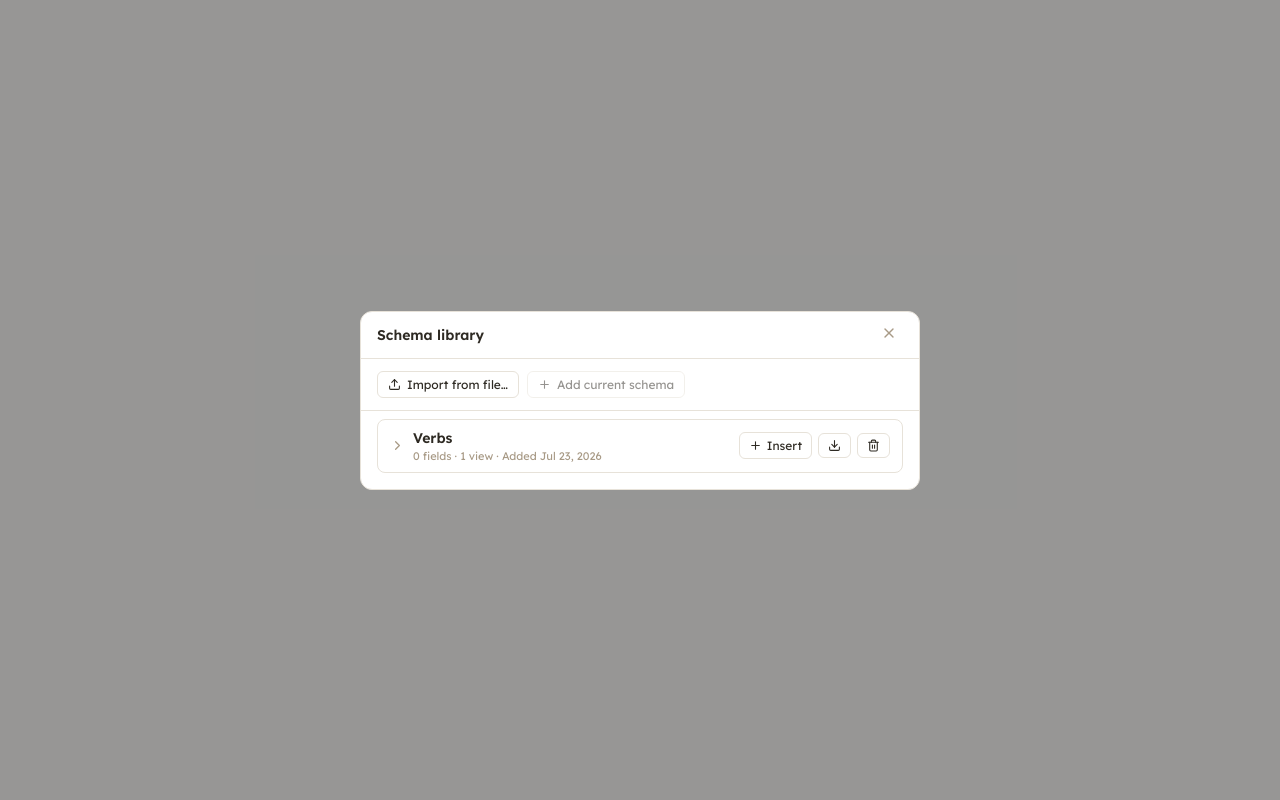
Test: SchemaLibraryModal › editing the entry name commits to the store
Click the button with aria-label "toggle details". click: (559, 446)
box: [390,428,729,462]
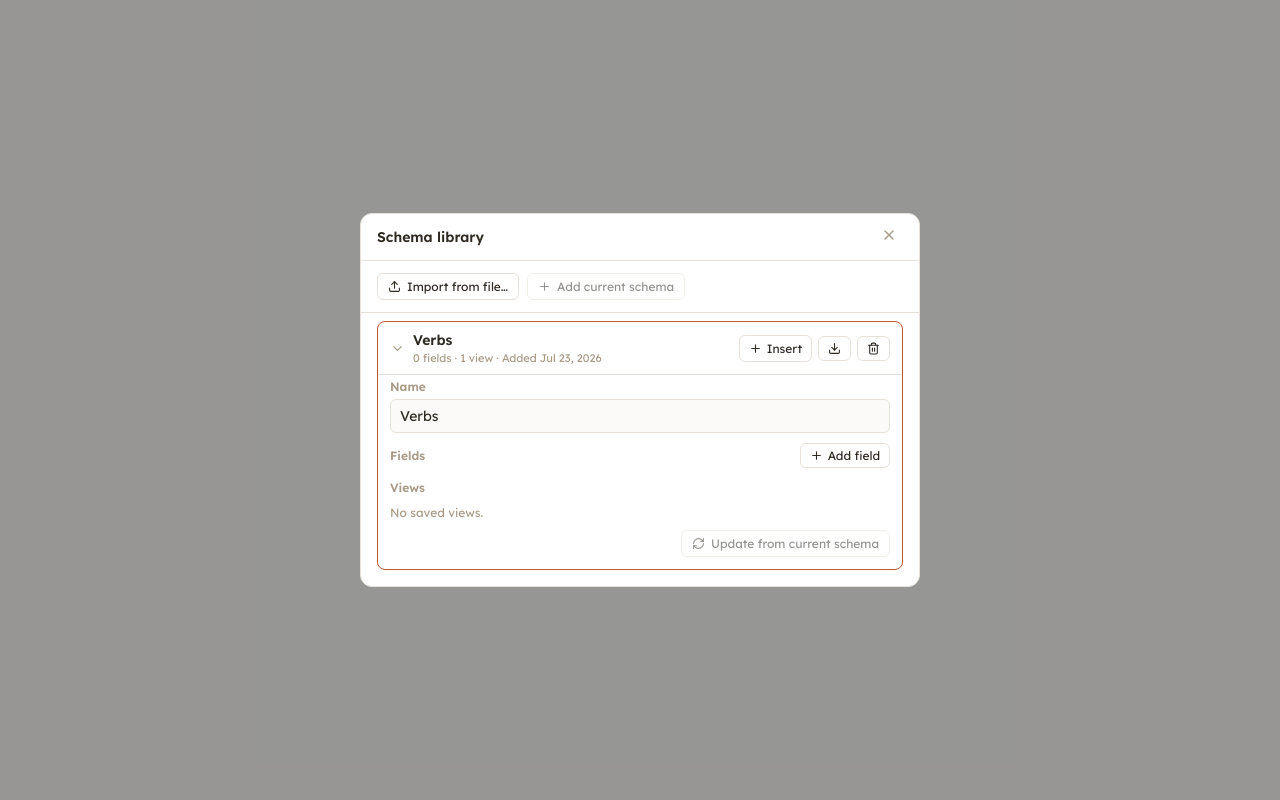
Replace the text in the field named "entry name" with "Nouns". click: (640, 416)
box: [390,399,890,433]
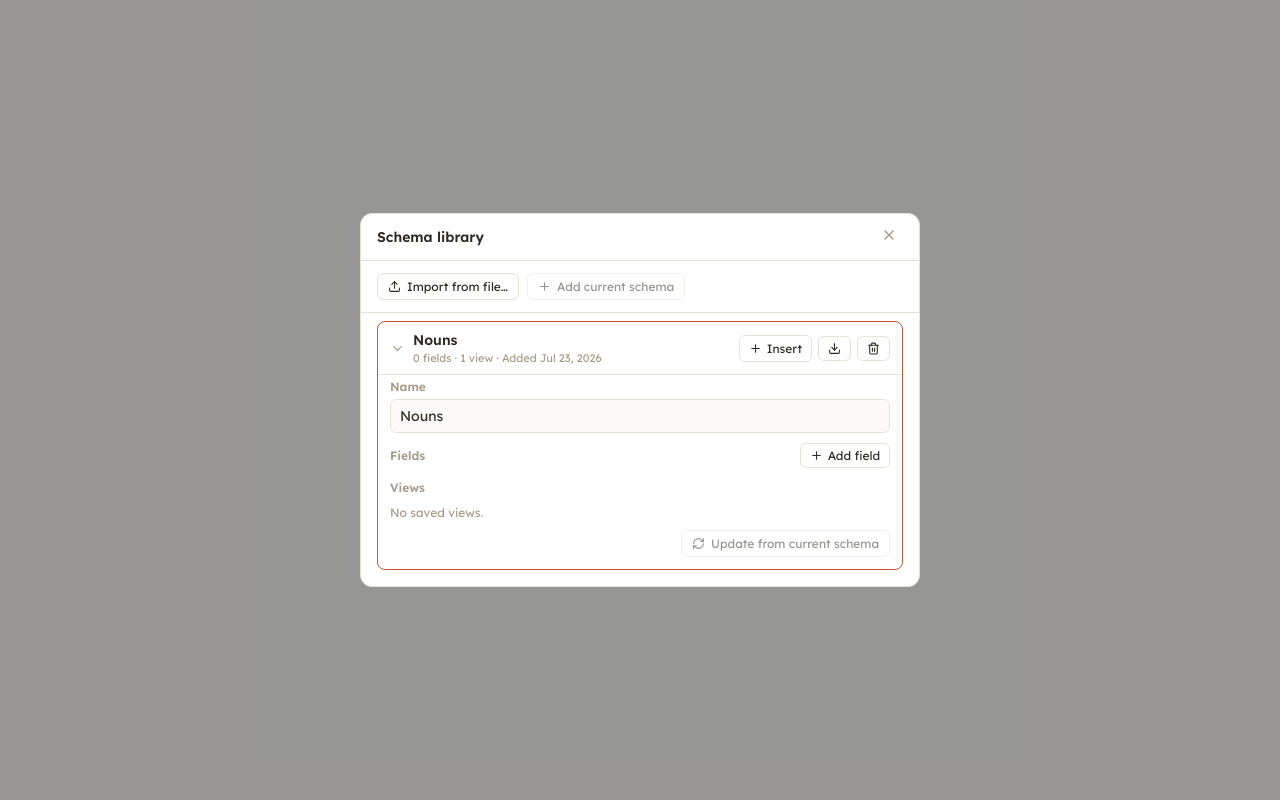
Expected: the text "Nouns" is shown, [413,331,458,349]
